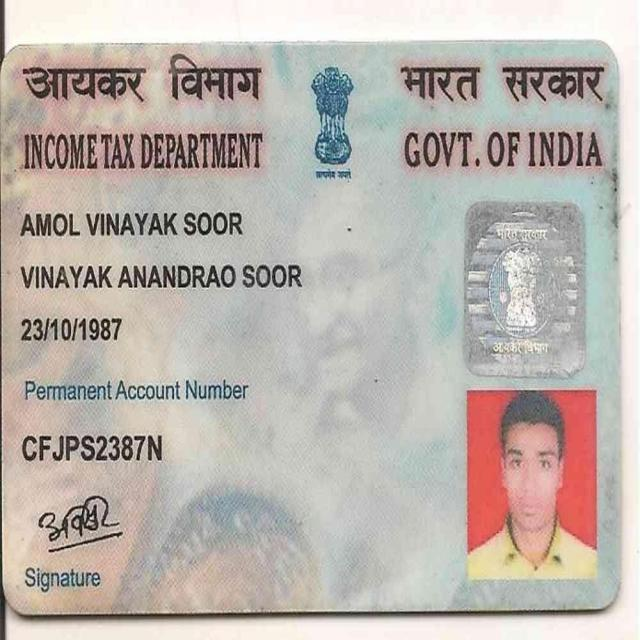pan_card: (0, 53, 616, 606)
